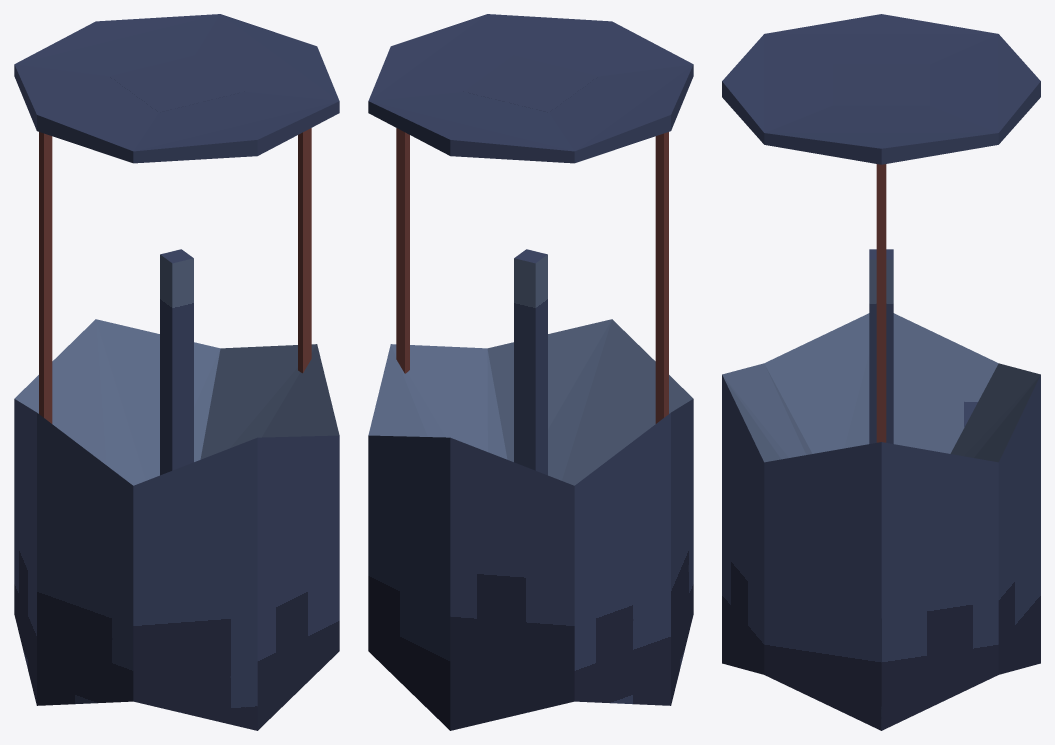
The model's file is Lantern.gltf.
The picture shows the model from 3 angles, left to right: view 1: azimuth 30°, elevation 25°; view 2: azimuth 150°, elevation 25°; view 3: azimuth 270°, elevation 25°; orthographic projection.
Parts seen in each view (by area): view 1: Cube.001; view 2: Cube.001; view 3: Cube.001.
Part boxes in pixels (x1=…): Cube.001: x1=14, y1=14, x2=339, y2=730; Cube.001: x1=368, y1=14, x2=693, y2=730; Cube.001: x1=722, y1=14, x2=1040, y2=730.
Bounding box in the file's own units: 0.4095 × 0.8251 × 0.4095.
1 material, 1 textured.
